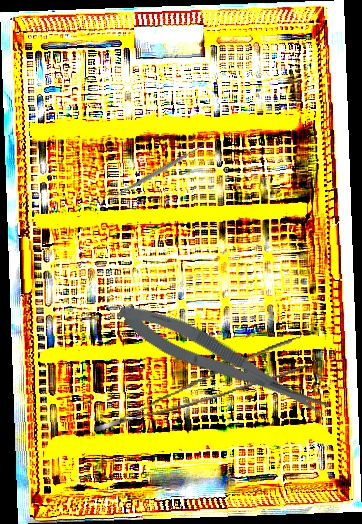Micro Scissor: (111, 293, 334, 431)
Spatula Surgical: (105, 138, 211, 206)
Tissue Forceps: (85, 336, 312, 432)
